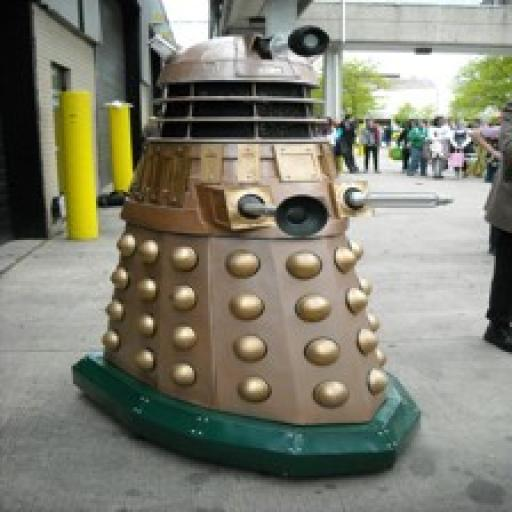dalek: (69, 17, 464, 476)
